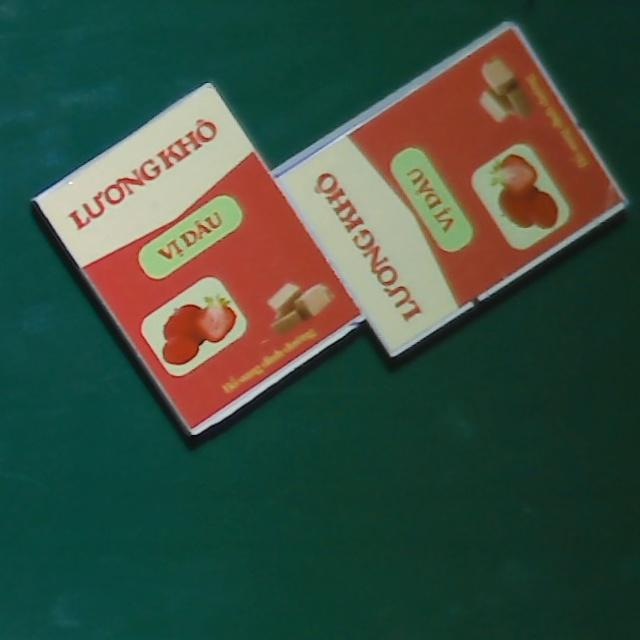dau: (26, 78, 370, 445), (271, 16, 633, 360)
